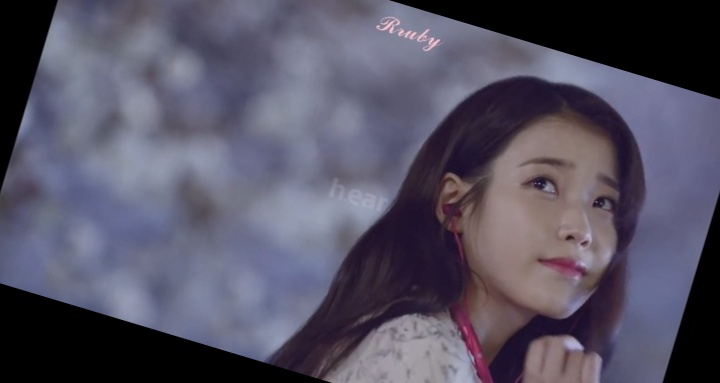earphone: (425, 170, 479, 235)
